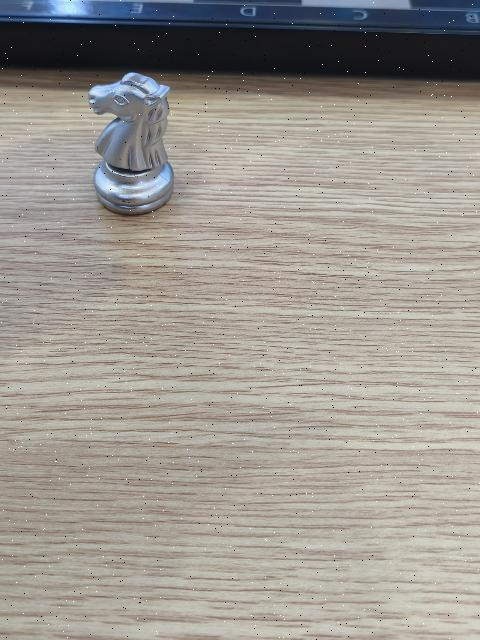white_knight: (84, 71, 171, 215)
